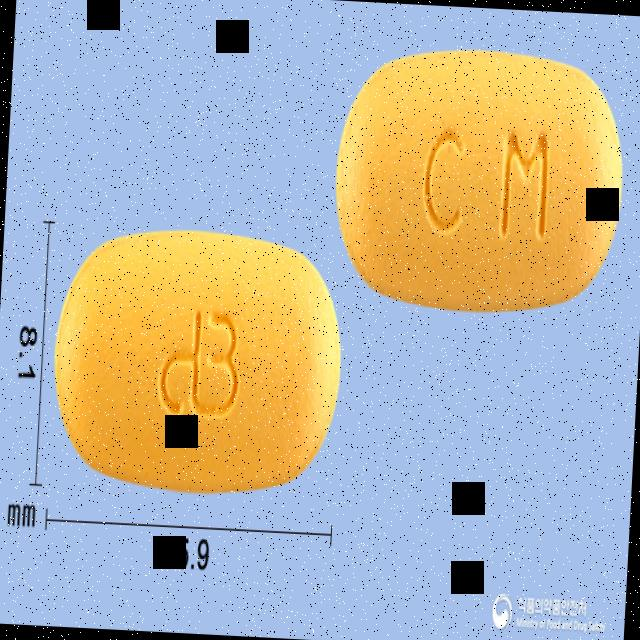Claridon: (45, 214, 350, 507), (327, 36, 632, 328)
